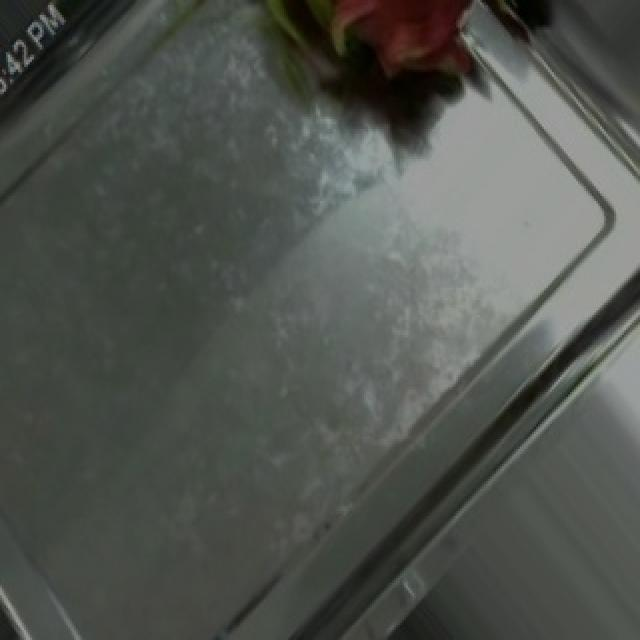fruit: (142, 0, 580, 213)
